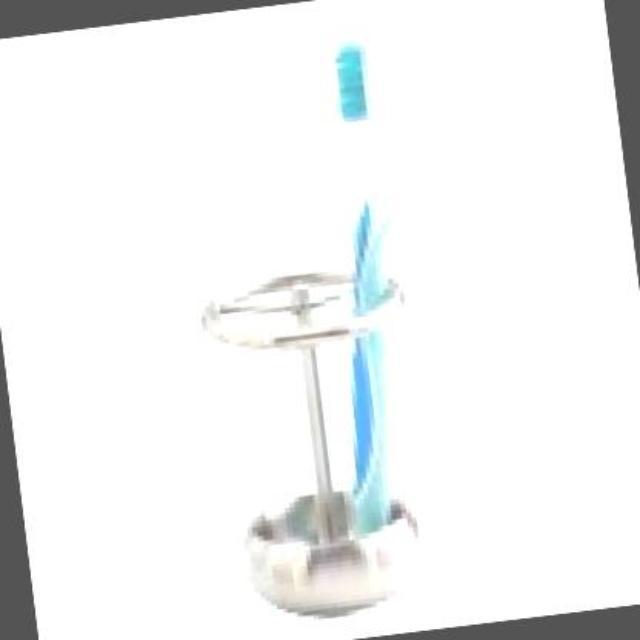toothbrush: (304, 8, 446, 562)
